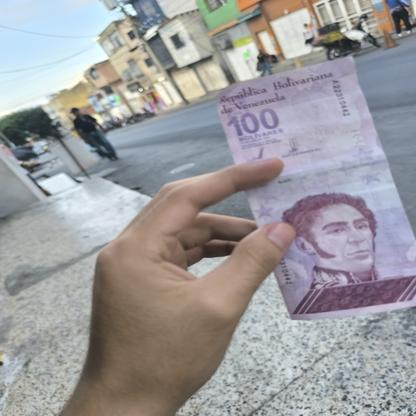one_hundred-front-vef: (215, 54, 416, 322)
